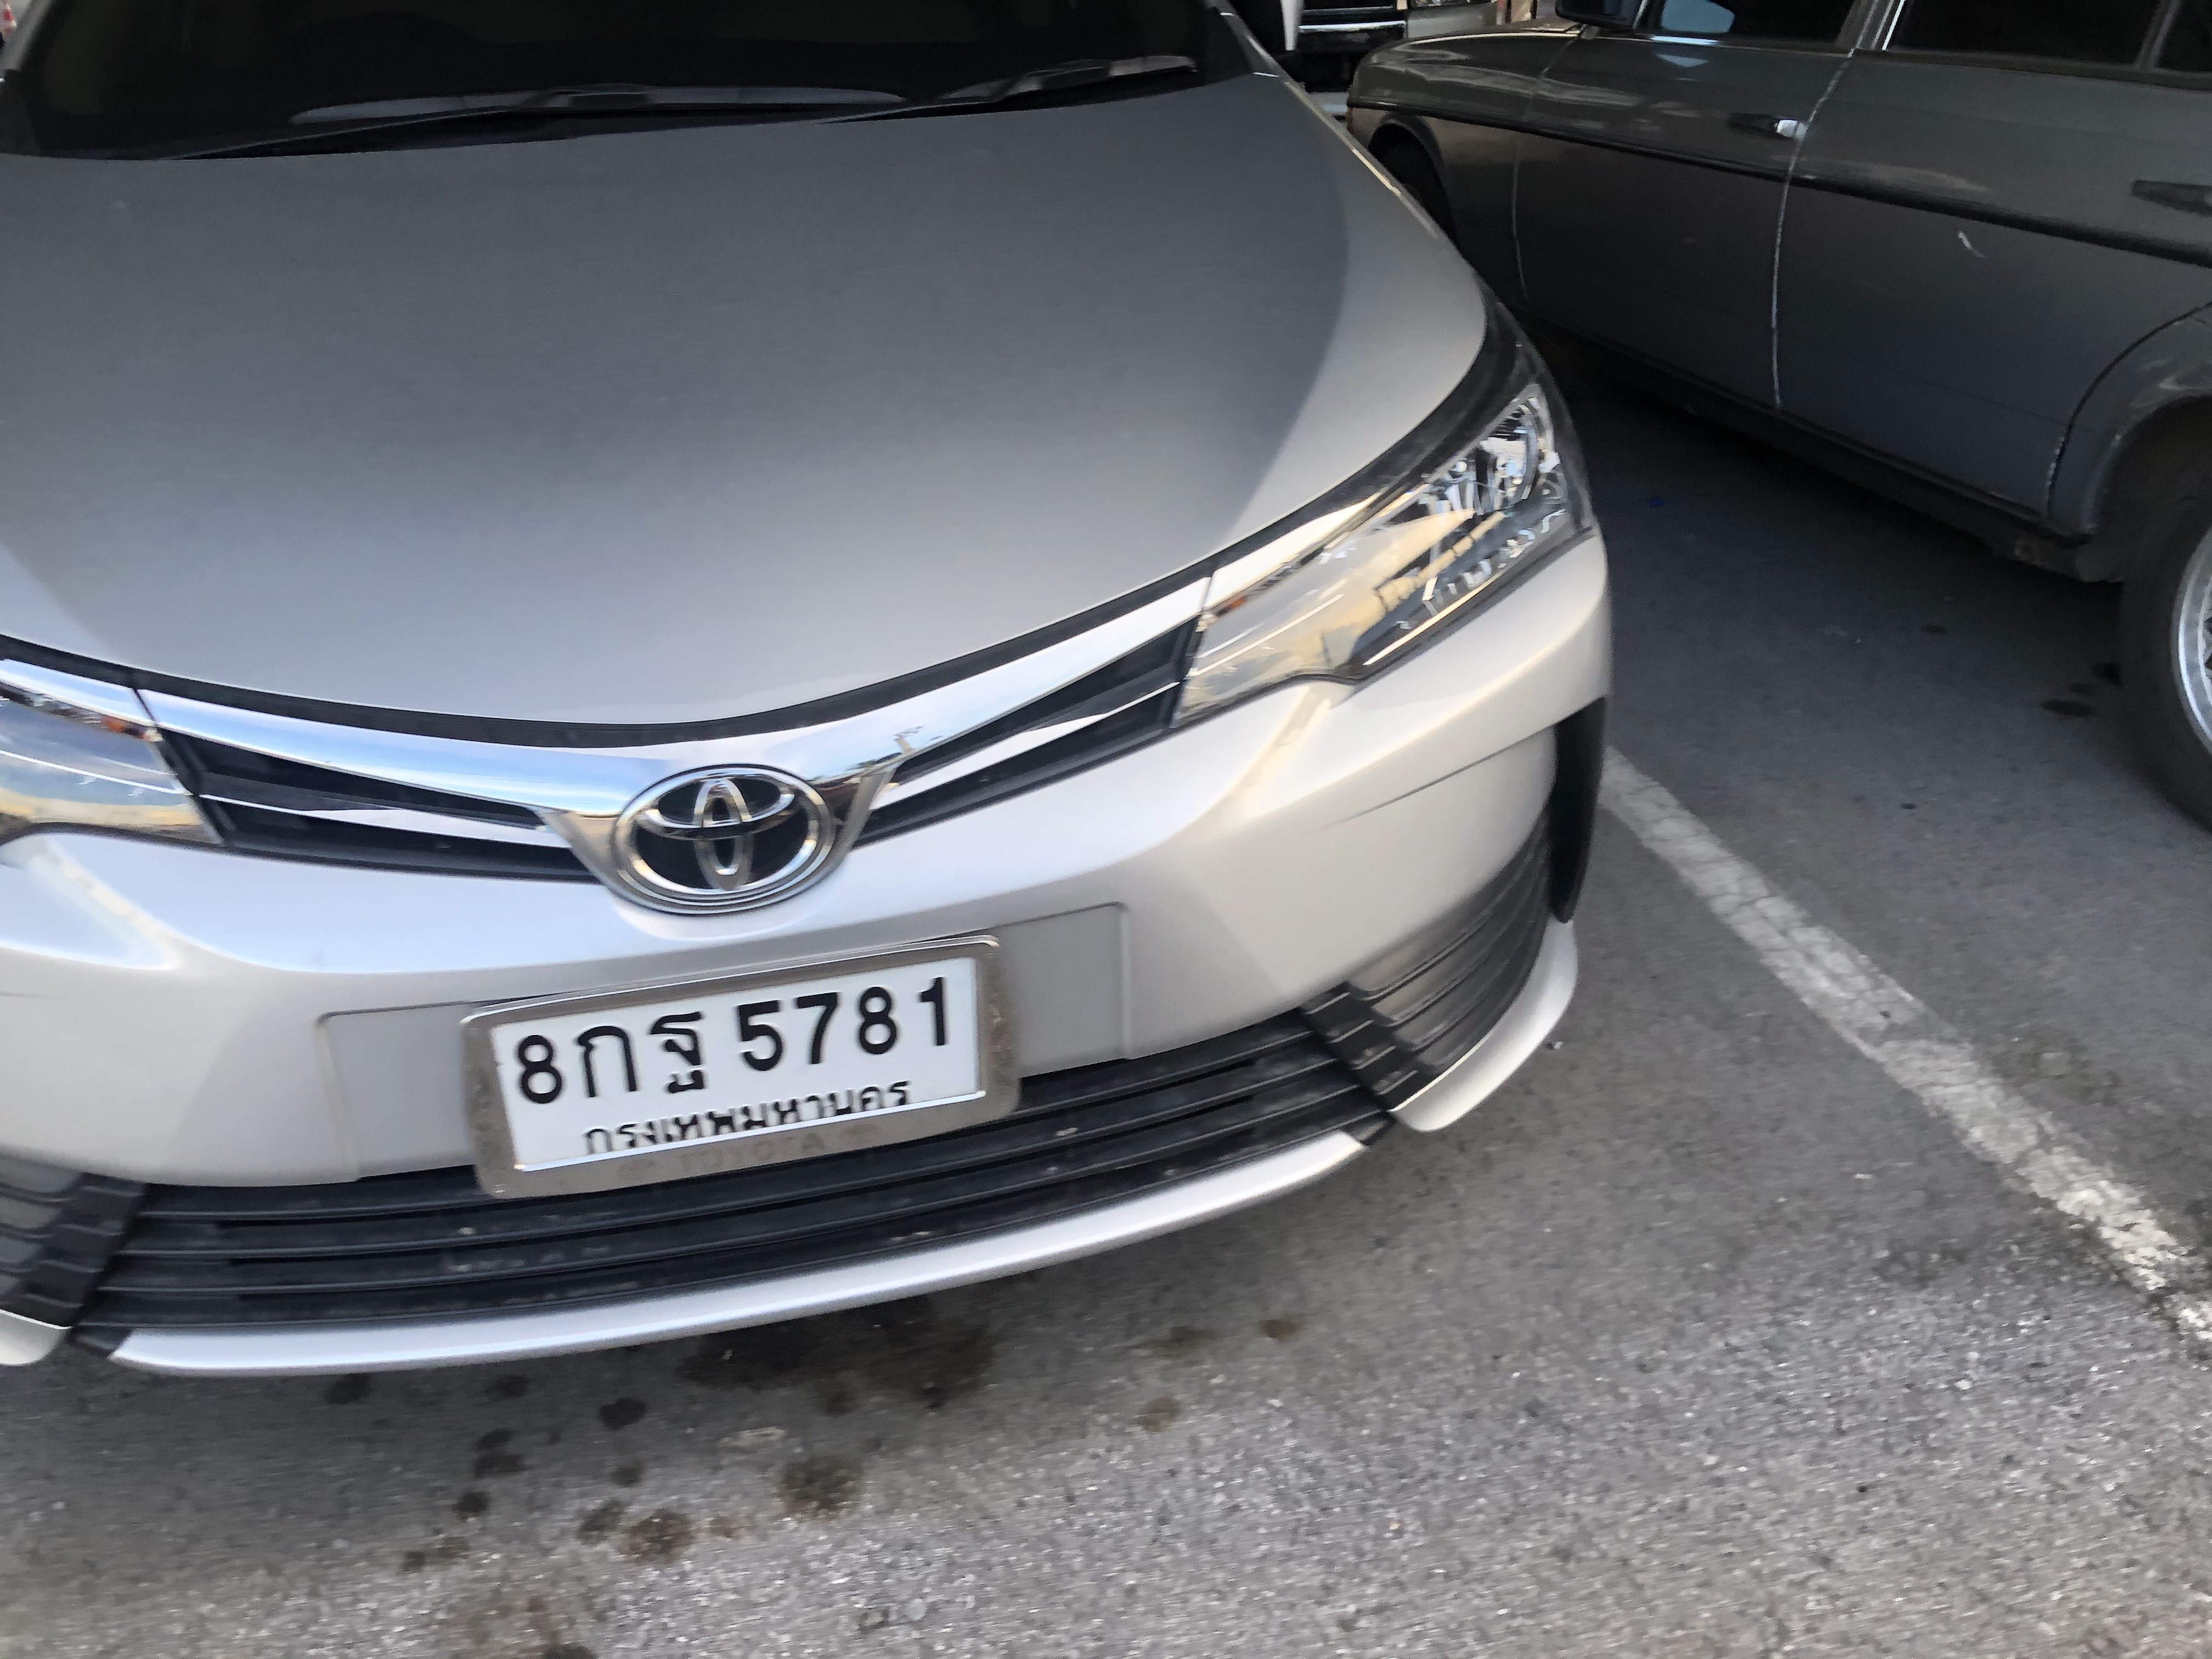in: (495, 953, 979, 1169)
out: (455, 936, 1033, 1201)
